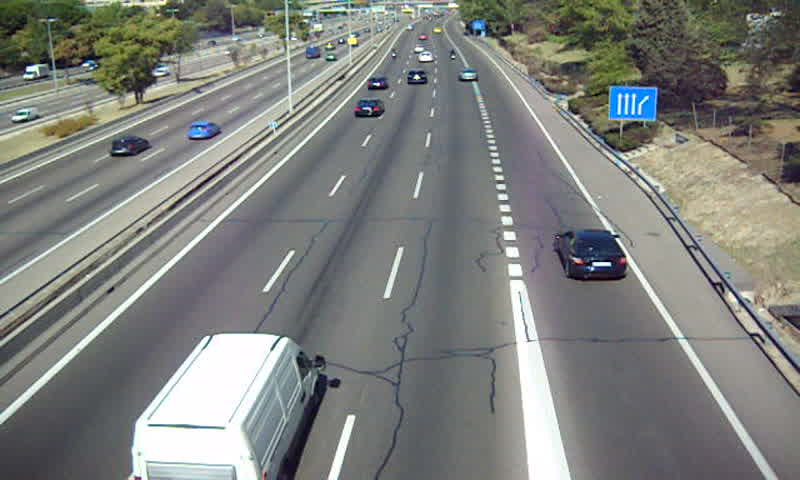car: (556, 231, 627, 281), (354, 98, 382, 118), (405, 69, 427, 87), (365, 75, 388, 90), (458, 68, 479, 83), (417, 51, 436, 62)
van: (132, 332, 324, 480)
